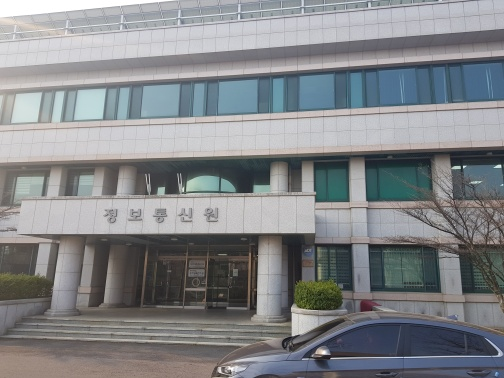Information Telecommunication Center: (6, 20, 494, 311), (111, 239, 259, 318), (90, 192, 253, 234)
